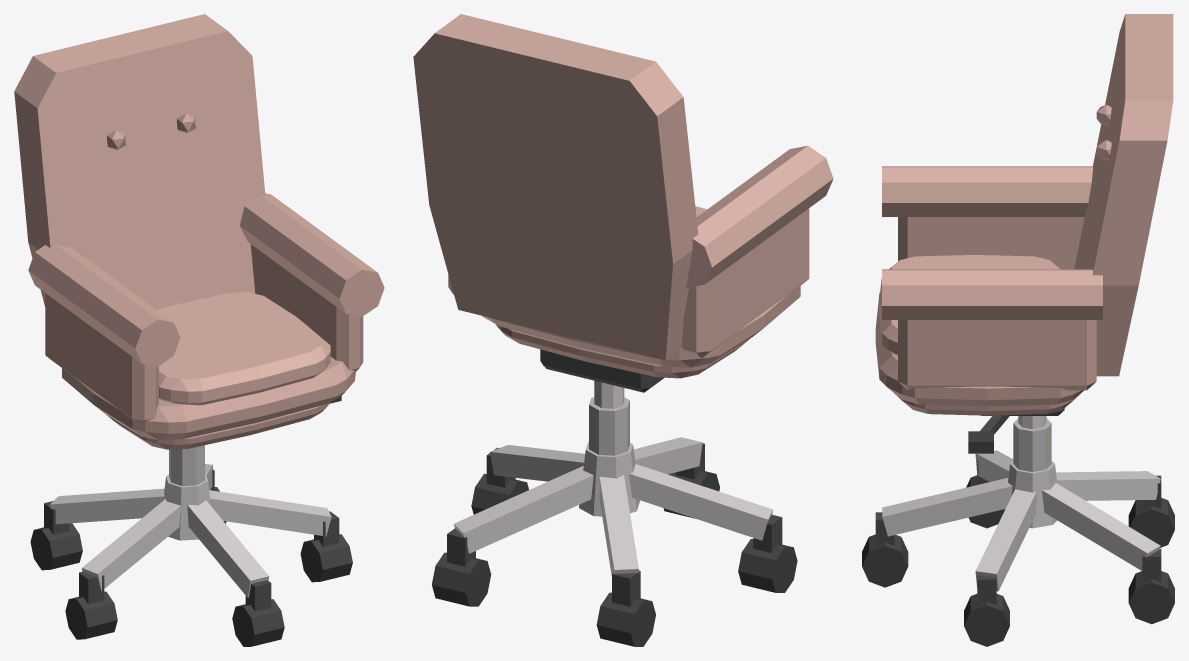
File: cadeira_vazia.glb
3 views of the same model, side by side, from view 1: azimuth 30°, elevation 25°; view 2: azimuth 150°, elevation 25°; view 3: azimuth 270°, elevation 25° (orthographic). The views are drawn at different scales.
Visible parts, largest first — view 1: cadeira; view 2: cadeira; view 3: cadeira.
Boxes of the visible parts, bbox=[...] form: cadeira: bbox=[14, 14, 384, 646]; cadeira: bbox=[413, 14, 833, 646]; cadeira: bbox=[862, 14, 1174, 646].
Size of the model in its own units: 0.4935 by 0.9 by 0.4881.
